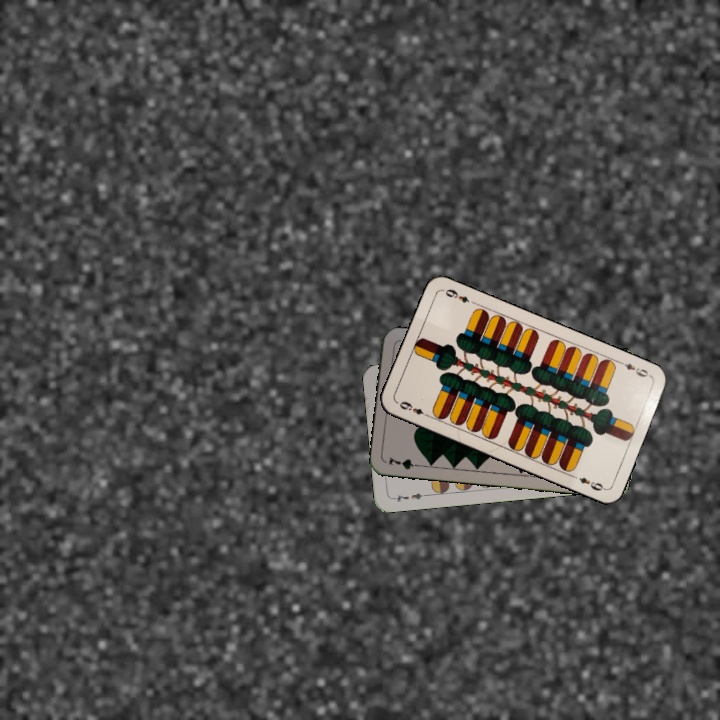E7: (389, 489, 429, 504)
E9: (615, 357, 653, 380), (395, 397, 432, 420)
G7: (384, 453, 425, 472)
